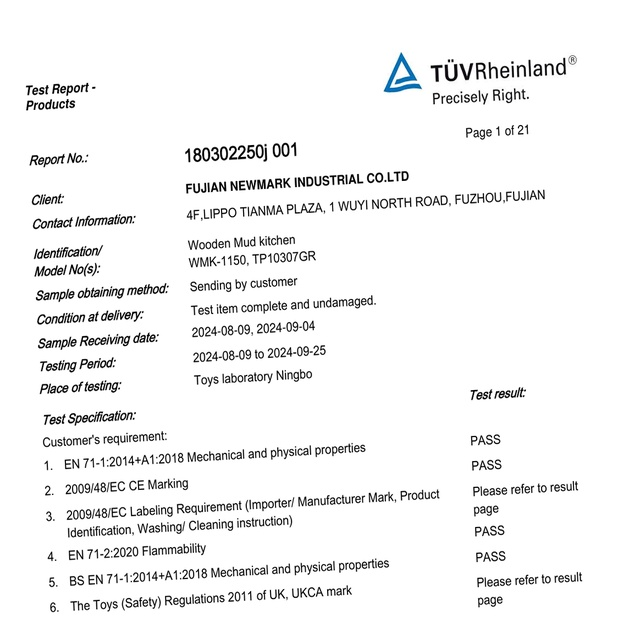tuv_rheinland: (381, 49, 578, 95)
